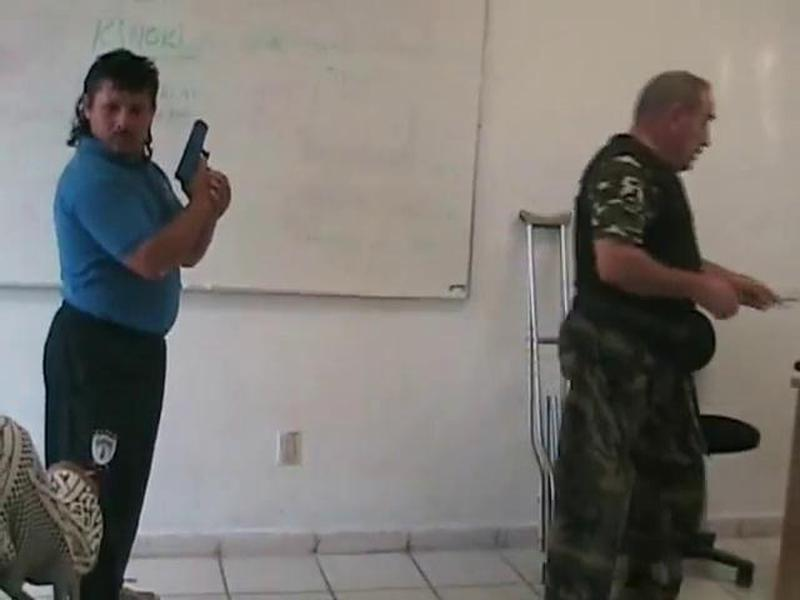Pistola: (179, 107, 219, 200)
